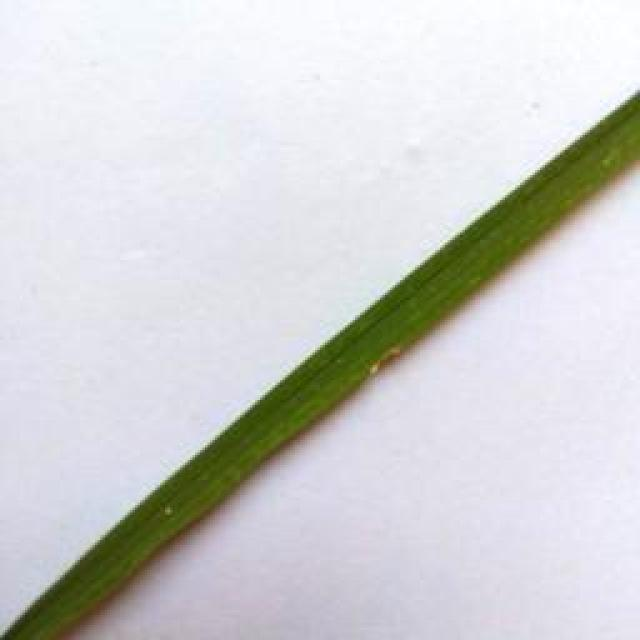Rice_Blast: (354, 339, 409, 376)
